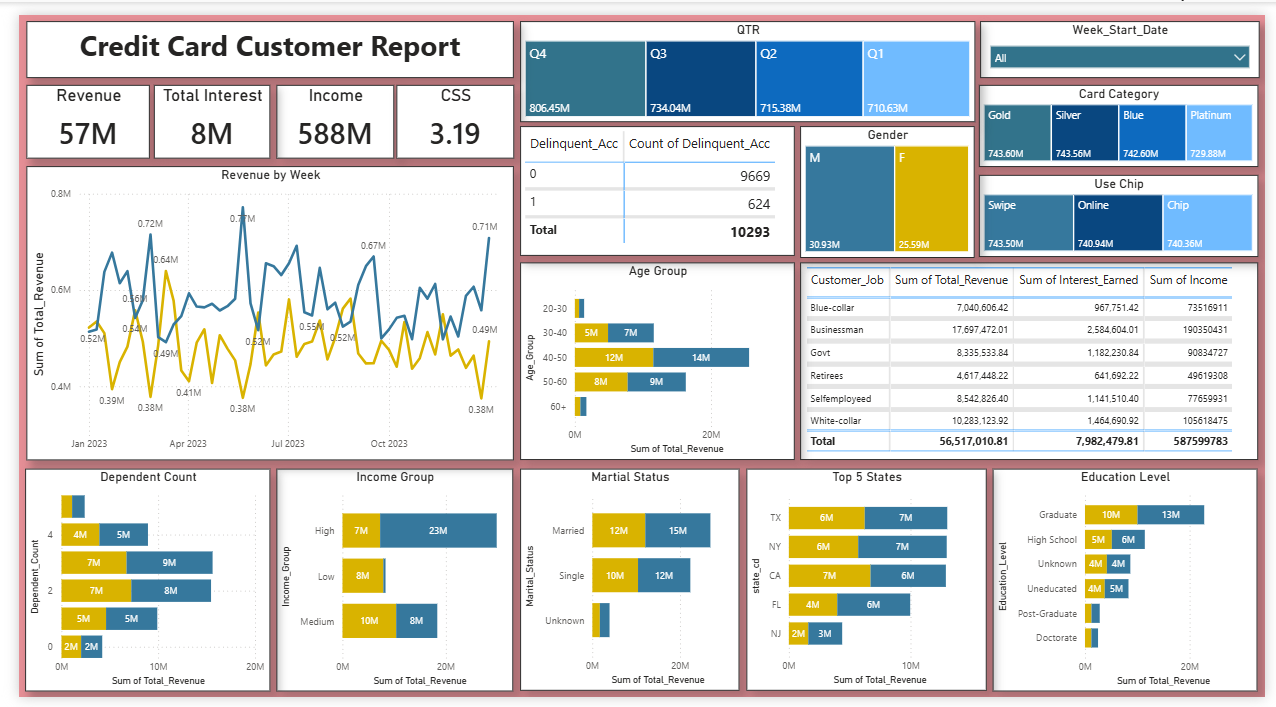

The page's visual inventory and layout, read from the dashboard file:
{"tool":"powerbi","page":{"name":"Credit_Card_Customer_Report","canvas":[1425,780],"ordinal":0},"visuals":[{"type":"slicer","title":"Week_Start_Date","fields":{"Values":["CreditCard.Week_Start_Date"]},"box":[1098,7,319,65],"z":0},{"type":"treemap","title":"Card Category","fields":{"Values":["Avg(CreditCard.Client_Num)"],"Group":["CreditCard.Card_Category"]},"box":[1097.8,80,318.9,93.3],"z":1000},{"type":"barChart","title":"Income Group","fields":{"Y":["Sum(CreditCard.Total_Revenue)"],"Category":["customer.Income_Group"],"Series":["customer.Gender"]},"box":[294.4,518.9,270,254.4],"z":2000},{"type":"treemap","title":" QTR","fields":{"Group":["CreditCard.Qtr"],"Values":["Avg(CreditCard.Client_Num)"]},"box":[572.2,6.7,520,115.6],"z":3000},{"type":"textbox","box":[8,7,557,65],"z":4000},{"type":"cardVisual","title":"Revenue","fields":{"Data":["Sum(CreditCard.Total_Revenue)"]},"box":[8,80,141,84],"z":5000},{"type":"cardVisual","title":"Income","fields":{"Data":["Sum(customer.Income)"]},"box":[294,80,134,84],"z":6000},{"type":"cardVisual","title":"CSS","fields":{"Data":["Avg(customer.Cust_Satisfaction_Score)"]},"box":[431,80,134,84],"z":7000},{"type":"tableEx","fields":{"Values":["customer.Customer_Job","Sum(CreditCard.Total_Revenue)","Sum(CreditCard.Interest_Earned)","Sum(customer.Income)"]},"box":[893.3,283.3,523.3,225.6],"z":8000},{"type":"cardVisual","title":"Total Interest","fields":{"Data":["Sum(CreditCard.Interest_Earned)"]},"box":[154,80,133,84],"z":9000},{"type":"lineChart","title":"Revenue by Week","fields":{"Series":["customer.Gender"],"Y":["Sum(CreditCard.Total_Revenue)"],"Category":["CreditCard.Week_Start_Date.Variation.Date Hierarchy.Year","CreditCard.Week_Start_Date.Variation.Date Hierarchy.Month","CreditCard.Week_Start_Date.Variation.Date Hierarchy.Day"]},"box":[9,173,557,336],"z":10000},{"type":"barChart","title":"Age Group","fields":{"Y":["Sum(CreditCard.Total_Revenue)"],"Category":["customer.Age_Group"],"Series":["customer.Gender"]},"box":[572.2,283.3,313.3,225.6],"z":11000},{"type":"barChart","title":"Dependent Count","fields":{"Y":["Sum(CreditCard.Total_Revenue)"],"Category":["customer.Dependent_Count"],"Series":["customer.Gender"]},"box":[7.8,518.9,280,254.4],"z":12000},{"type":"barChart","title":"Education Level","fields":{"Y":["Sum(CreditCard.Total_Revenue)"],"Category":["customer.Education_Level"],"Series":["customer.Gender"]},"box":[1113.3,518.9,302.2,254.4],"z":13000},{"type":"barChart","title":"Martial Status","fields":{"Y":["Sum(CreditCard.Total_Revenue)"],"Category":["customer.Marital_Status"],"Series":["customer.Gender"]},"box":[572.2,518.9,250,253.3],"z":14000},{"type":"barChart","title":"Top 5 States","fields":{"Y":["Sum(CreditCard.Total_Revenue)"],"Category":["customer.state_cd"],"Series":["customer.Gender"]},"box":[831.1,518.9,274.4,253.3],"z":15000},{"type":"treemap","title":"Use Chip","fields":{"Values":["Avg(CreditCard.Client_Num)"],"Group":["CreditCard.Use_Chip"]},"box":[1097.8,182.2,318.9,93.3],"z":16000},{"type":"pivotTable","fields":{"Rows":["CreditCard.Delinquent_Acc"],"Values":["CountNonNull(CreditCard.Delinquent_Acc)"]},"box":[572.2,127.8,313.3,147.8],"z":17000},{"type":"treemap","title":"Gender","fields":{"Group":["customer.Gender"],"Values":["Sum(CreditCard.Total_Revenue)"]},"box":[893.3,127.8,198.9,150],"z":18000}]}

Visuals, with their boxes in screenshot pixels (x1, y1, x2, y2), scaled from the page's 1425x780 canvas onto the 1276x707 screenshot:
"Week_Start_Date" slicer: bbox=(983, 6, 1269, 65)
"Card Category" treemap: bbox=(983, 73, 1269, 157)
"Income Group" barChart: bbox=(264, 470, 505, 701)
" QTR" treemap: bbox=(512, 6, 978, 111)
textbox: bbox=(7, 6, 506, 65)
"Revenue" cardVisual: bbox=(7, 73, 133, 149)
"Income" cardVisual: bbox=(263, 73, 383, 149)
"CSS" cardVisual: bbox=(386, 73, 506, 149)
tableEx - customer.Customer_Job x Sum(CreditCard.Total_Revenue): bbox=(800, 257, 1268, 461)
"Total Interest" cardVisual: bbox=(138, 73, 257, 149)
"Revenue by Week" lineChart: bbox=(8, 157, 507, 461)
"Age Group" barChart: bbox=(512, 257, 793, 461)
"Dependent Count" barChart: bbox=(7, 470, 258, 701)
"Education Level" barChart: bbox=(997, 470, 1267, 701)
"Martial Status" barChart: bbox=(512, 470, 736, 700)
"Top 5 States" barChart: bbox=(744, 470, 990, 700)
"Use Chip" treemap: bbox=(983, 165, 1269, 250)
pivotTable - CreditCard.Delinquent_Acc x CountNonNull(CreditCard.Delinquent_Acc): bbox=(512, 116, 793, 250)
"Gender" treemap: bbox=(800, 116, 978, 252)
